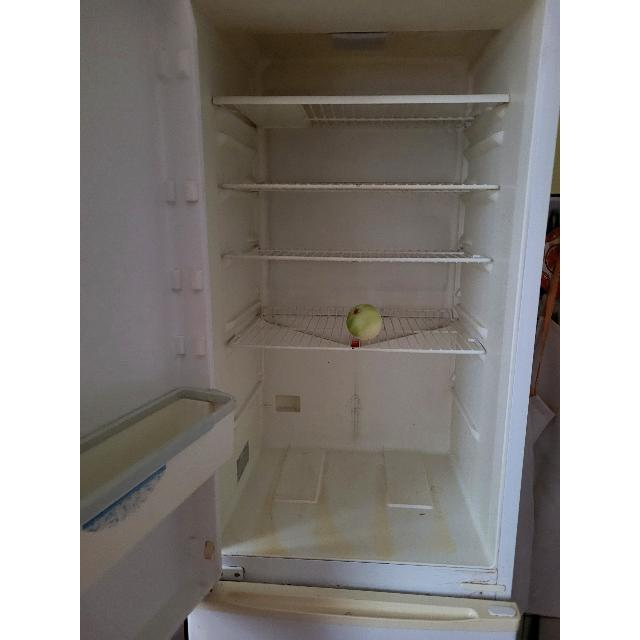onion: (346, 303, 384, 341)
